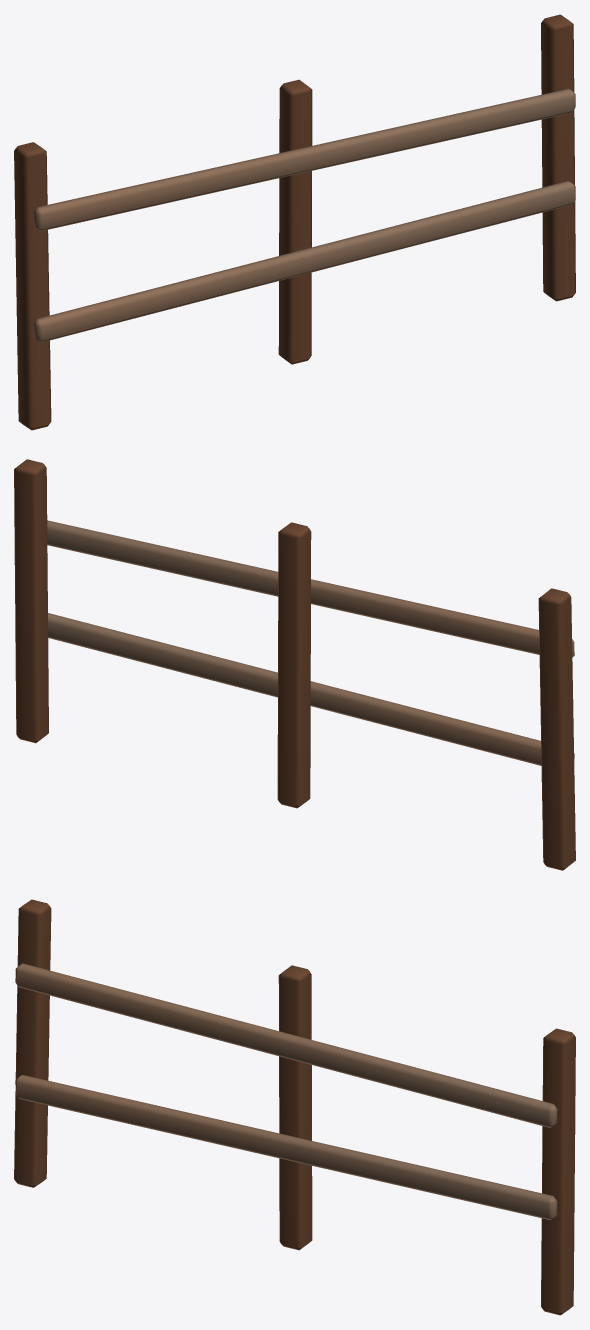
The model's file is wooden_fence_2m.glb.
3 renders of one model, top to bottom at view 1: azimuth 30°, elevation 25°; view 2: azimuth 150°, elevation 25°; view 3: azimuth 330°, elevation 25°, orthographic.
Visible parts, largest first — view 1: wooden_fence_2m; view 2: wooden_fence_2m; view 3: wooden_fence_2m.
Boxes of the visible parts, x1,y1,x2,y2 form: wooden_fence_2m: [14, 14, 575, 430]; wooden_fence_2m: [14, 459, 575, 870]; wooden_fence_2m: [14, 899, 575, 1315].
Size of the model in its own units: 2.09 by 1 by 0.1452.
